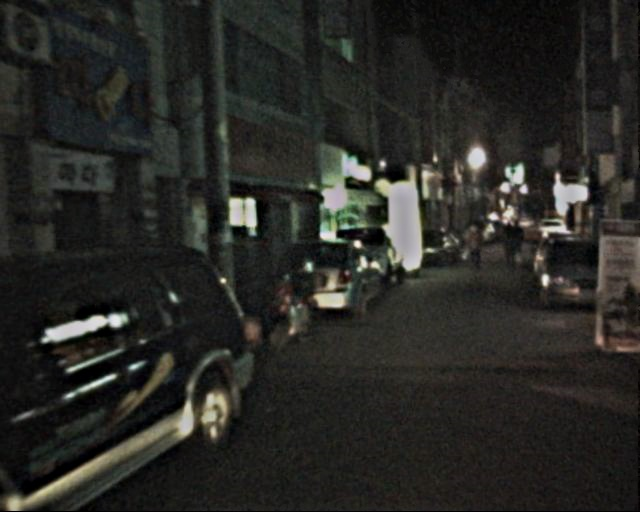person: (465, 223, 495, 279), (501, 220, 528, 273)
